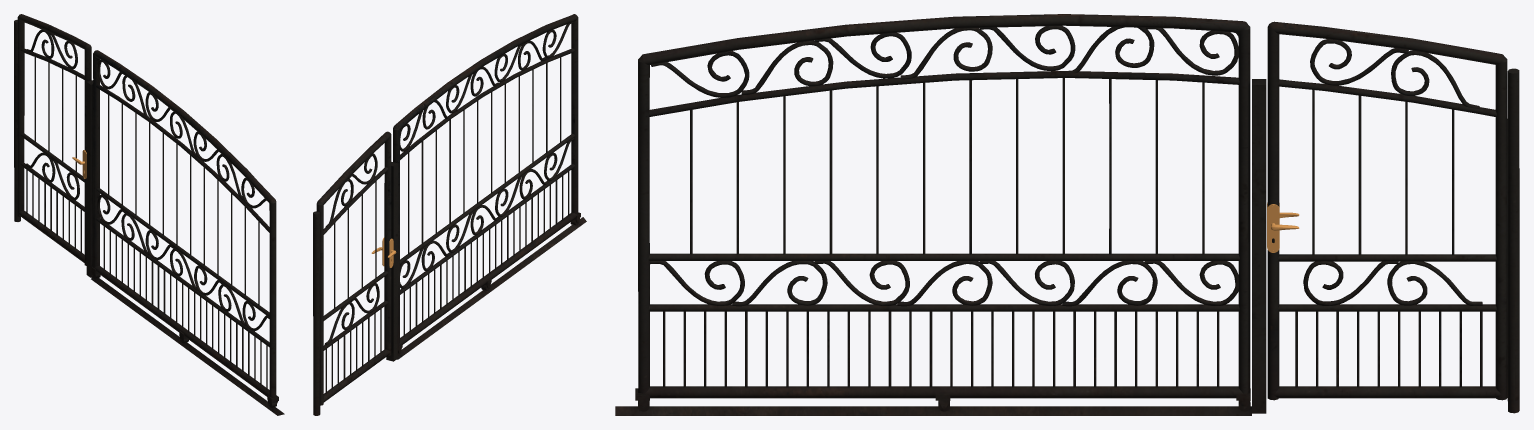
The model's file is Gate.fbx.
The picture shows the model from 3 angles, left to right: view 1: azimuth 30°, elevation 25°; view 2: azimuth 150°, elevation 25°; view 3: azimuth 270°, elevation 25°; orthographic projection. The views are drawn at different scales.
Parts seen in each view (by area): view 1: All1; view 2: All1, Maniglia1; view 3: All1, Maniglia1.
Part boxes in pixels (bbox=[...]): All1: bbox=[14, 14, 284, 415]; All1: bbox=[313, 14, 586, 415]; Maniglia1: bbox=[371, 237, 396, 267]; All1: bbox=[615, 14, 1519, 415]; Maniglia1: bbox=[1267, 202, 1299, 252].
Size of the model in its own units: 0.583 by 7.2 by 14.82.
2 materials, 1 textured.
